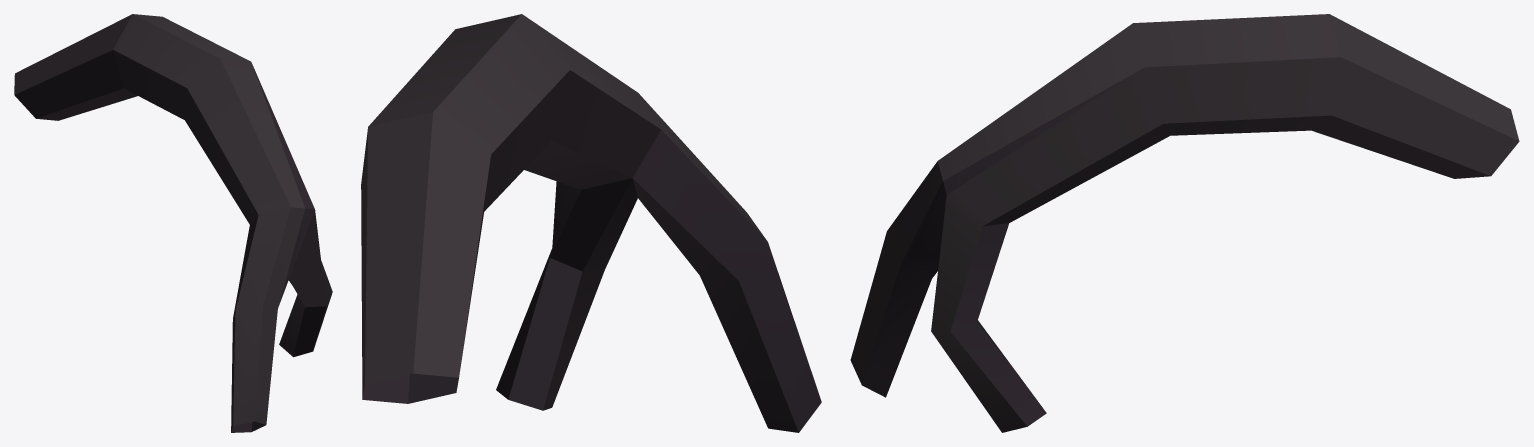
The model's file is дек9.fbx.
The picture shows the model from 3 angles, left to right: view 1: azimuth 30°, elevation 25°; view 2: azimuth 150°, elevation 25°; view 3: azimuth 270°, elevation 25°; orthographic projection. The views are drawn at different scales.
Visible parts, largest first — view 1: pCylinder21; view 2: pCylinder21; view 3: pCylinder21.
Part boxes in pixels (x1,y1,x2,y2): pCylinder21: [14, 14, 332, 432]; pCylinder21: [361, 14, 821, 432]; pCylinder21: [850, 14, 1519, 432].
Bounding box in the file's own units: 0.6351 × 1.3 × 1.91.
